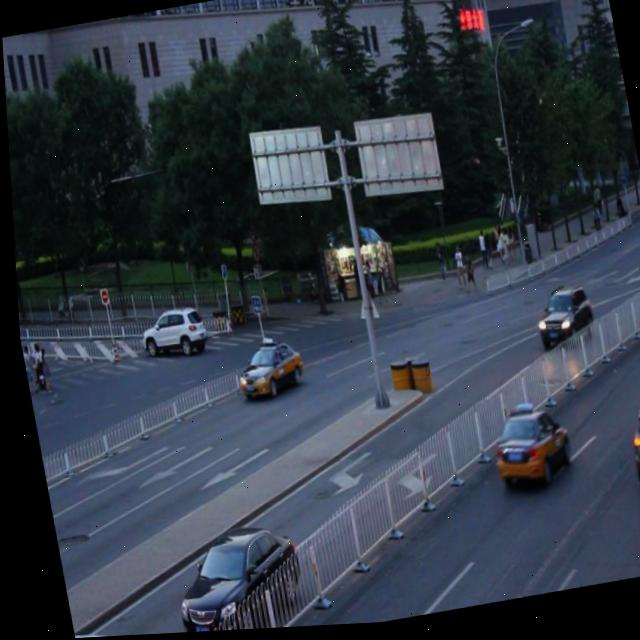car: (159, 523, 301, 635), (480, 405, 566, 494), (228, 338, 302, 405), (133, 305, 207, 365), (525, 286, 589, 351), (616, 394, 640, 491), (65, 619, 146, 639)
